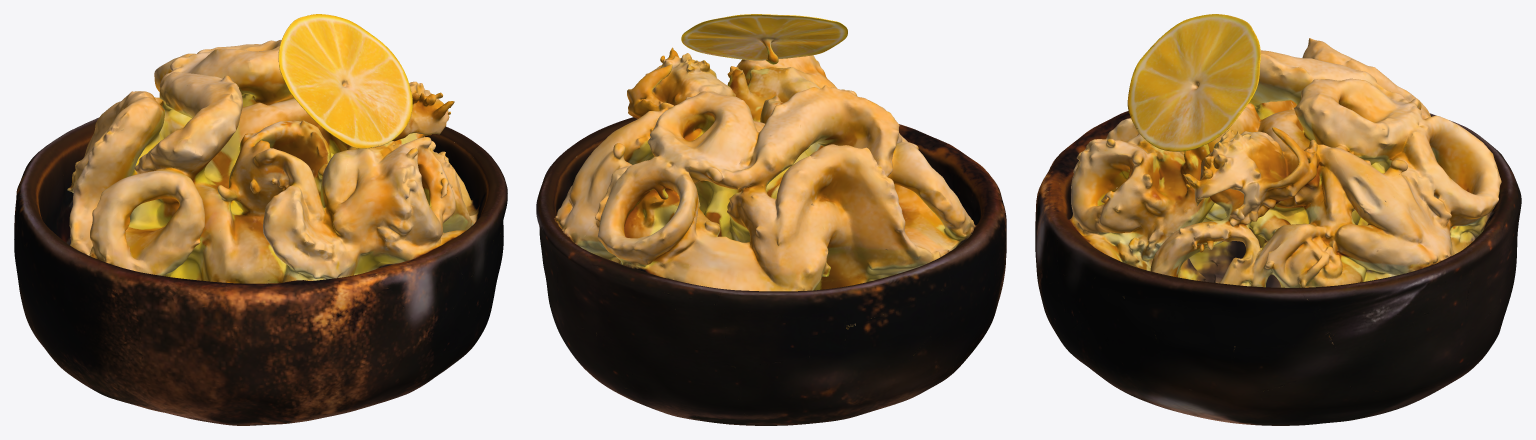
The model's file is 1Fried-Calamari.glb.
3 views of the same model, side by side, from view 1: azimuth 30°, elevation 25°; view 2: azimuth 150°, elevation 25°; view 3: azimuth 270°, elevation 25° (orthographic). The views are drawn at different scales.
Size of the model in its own units: 0.5696 by 0.4642 by 0.5569.
1 material, 1 textured.
